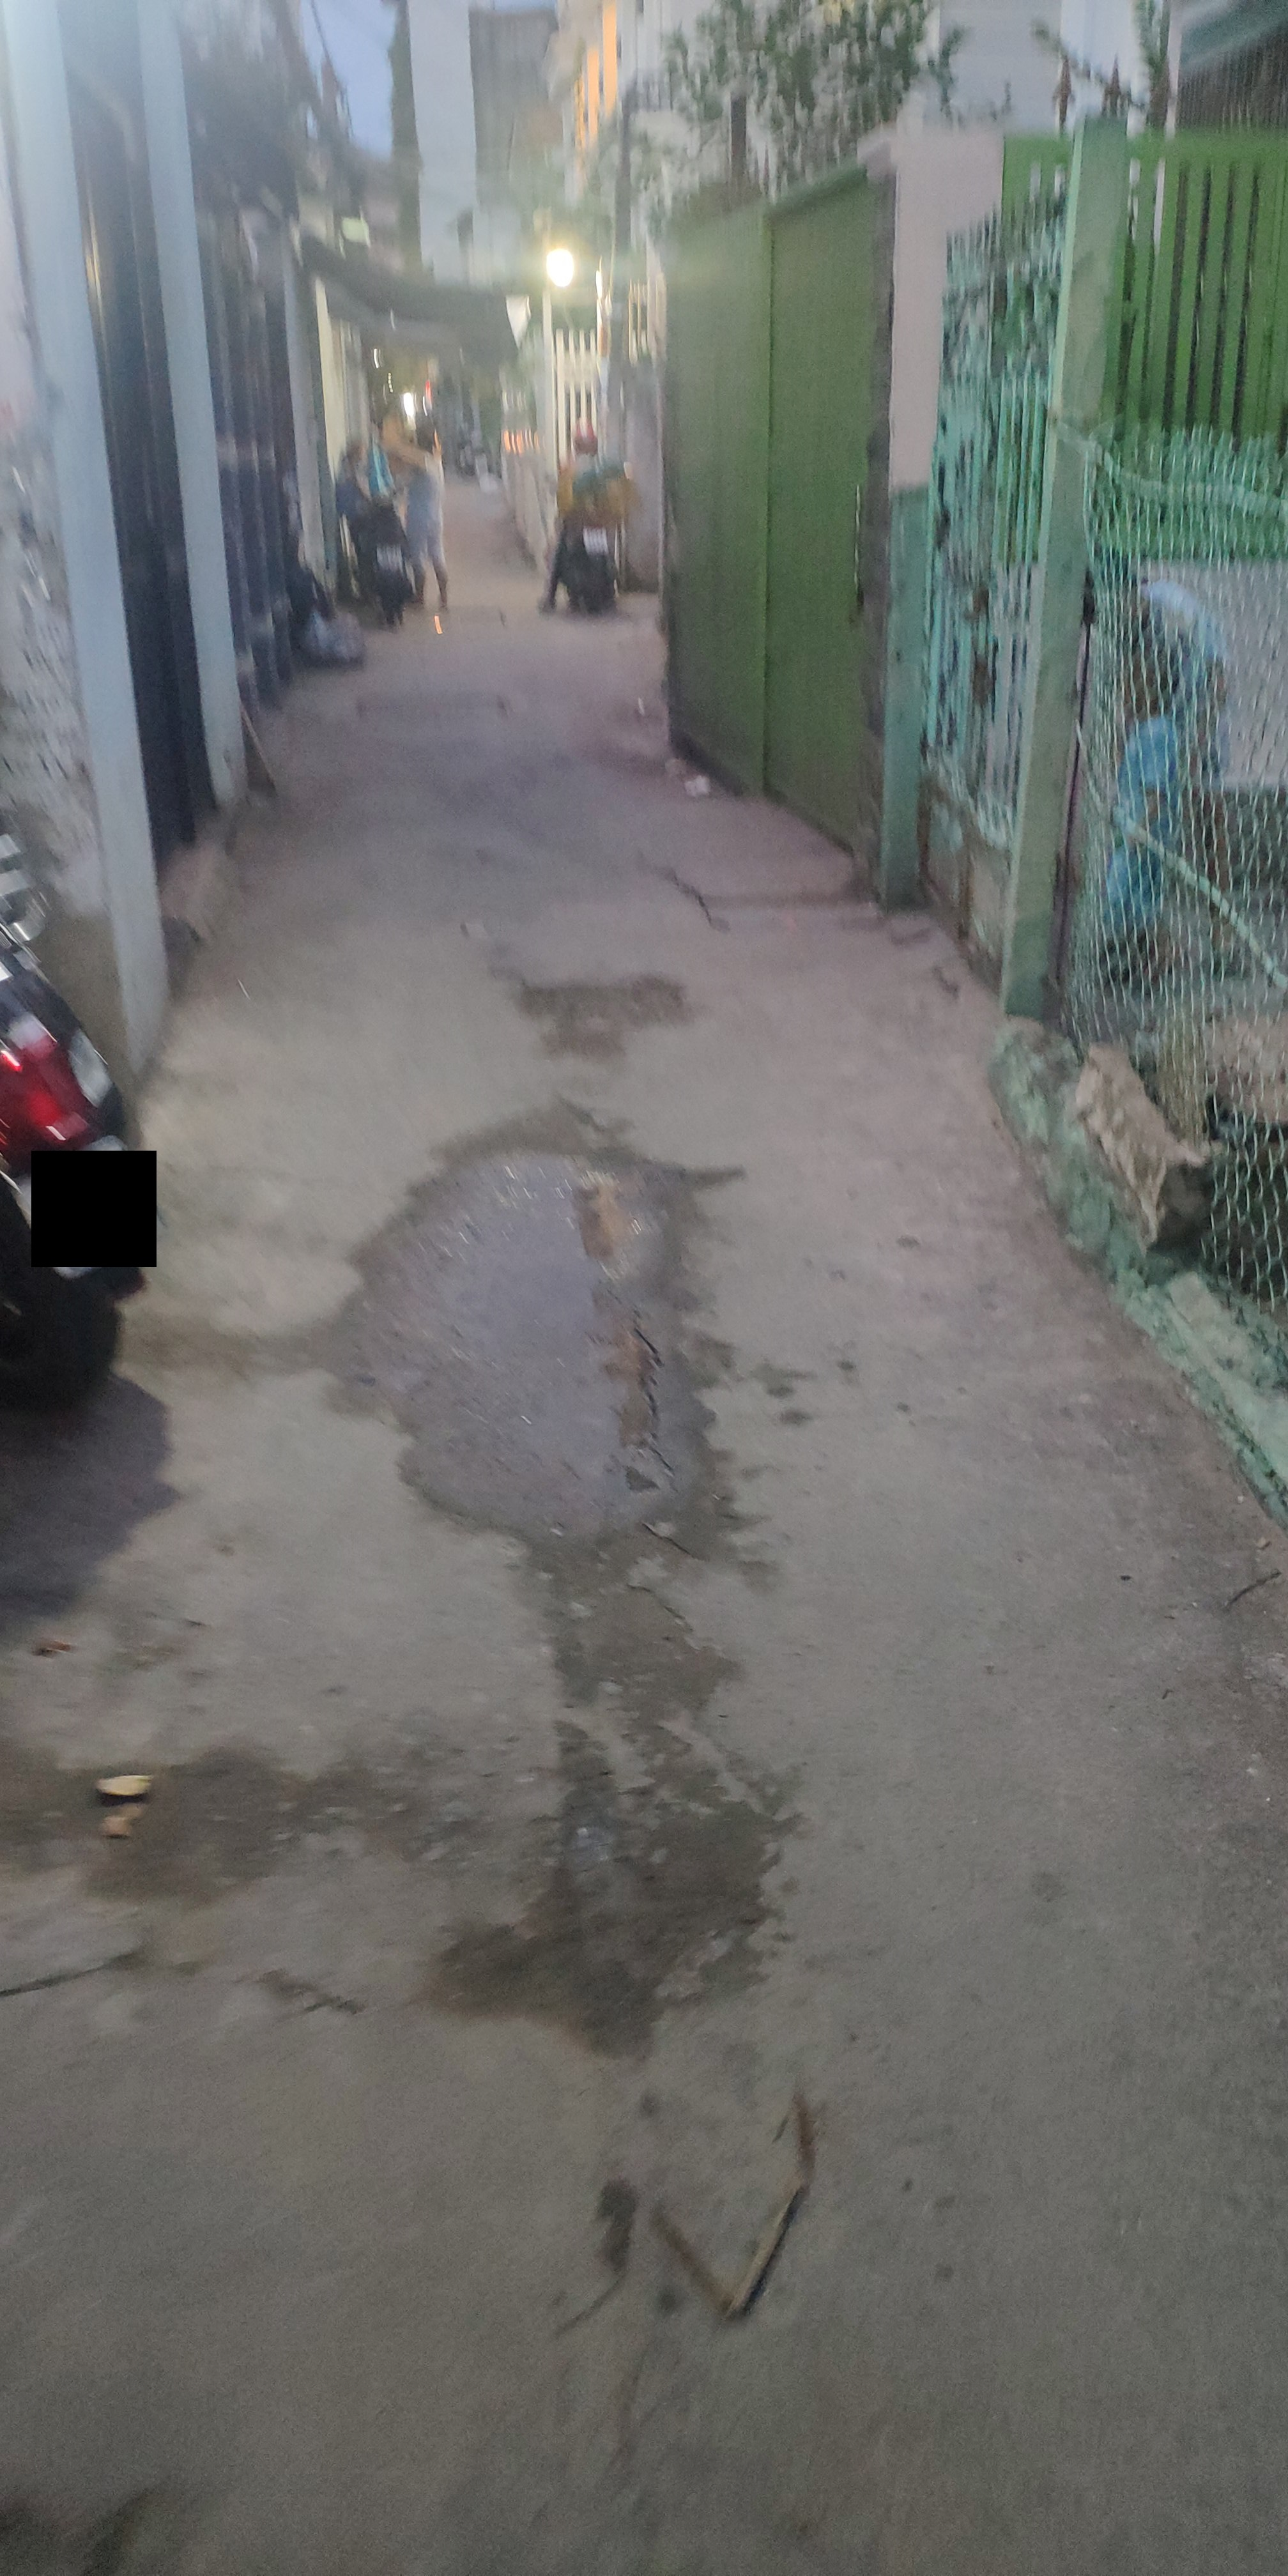hole: (356, 1109, 701, 1544), (444, 1718, 808, 2032)
